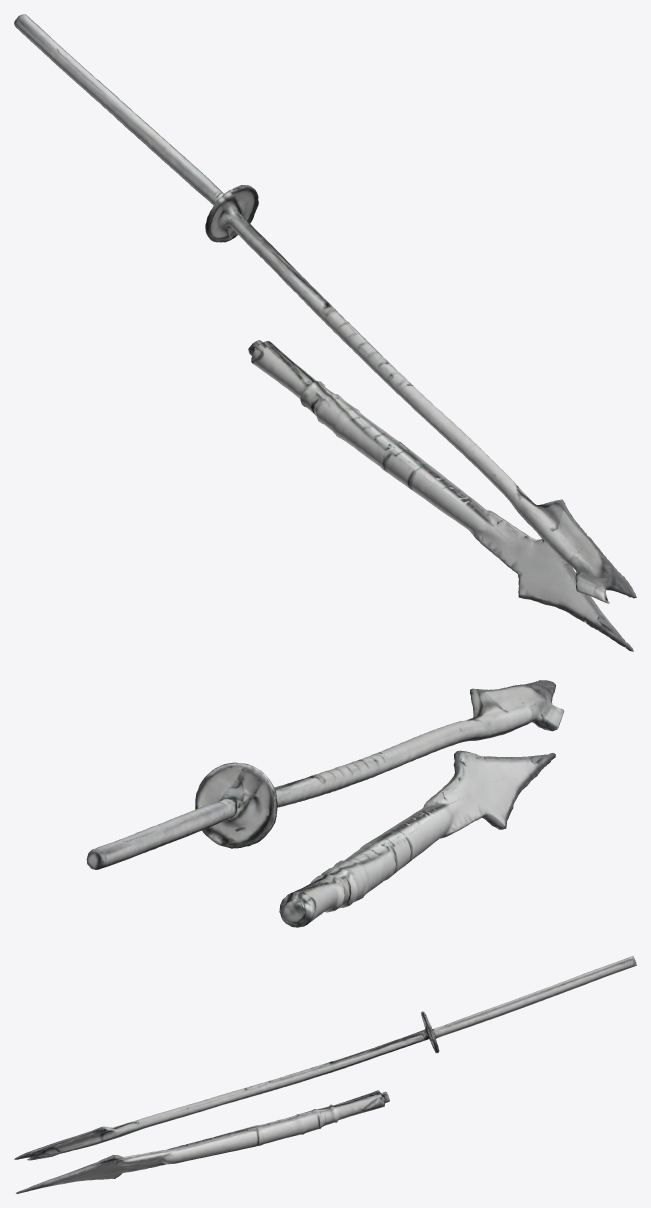
File: lanza_rota_01.glb
3 views of the same model, one above another, from view 1: azimuth 30°, elevation 25°; view 2: azimuth 150°, elevation 25°; view 3: azimuth 270°, elevation 25° (orthographic). The views are drawn at different scales.
Bounding box in the file's own units: 0.3189 × 0.7045 × 2.
1 material, 1 textured.
